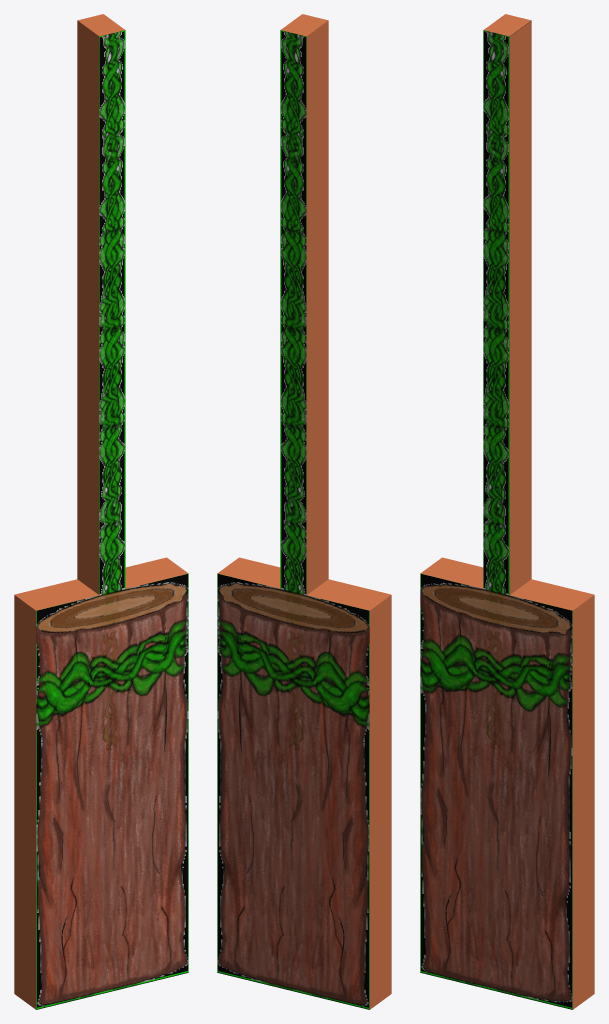
File: Wall_01.FBX
3 views of the same model, side by side, from view 1: azimuth 30°, elevation 25°; view 2: azimuth 150°, elevation 25°; view 3: azimuth 330°, elevation 25° (orthographic).
Parts seen in each view (by area): view 1: Wall; view 2: Wall; view 3: Wall.
Boxes of the visible parts, x1,y1,x2,y2 form: Wall: (14, 14, 188, 1009); Wall: (217, 14, 391, 1009); Wall: (420, 14, 594, 1009).
Size of the model in its own units: 78.74 by 472 by 19.69.
1 material, 1 textured.
